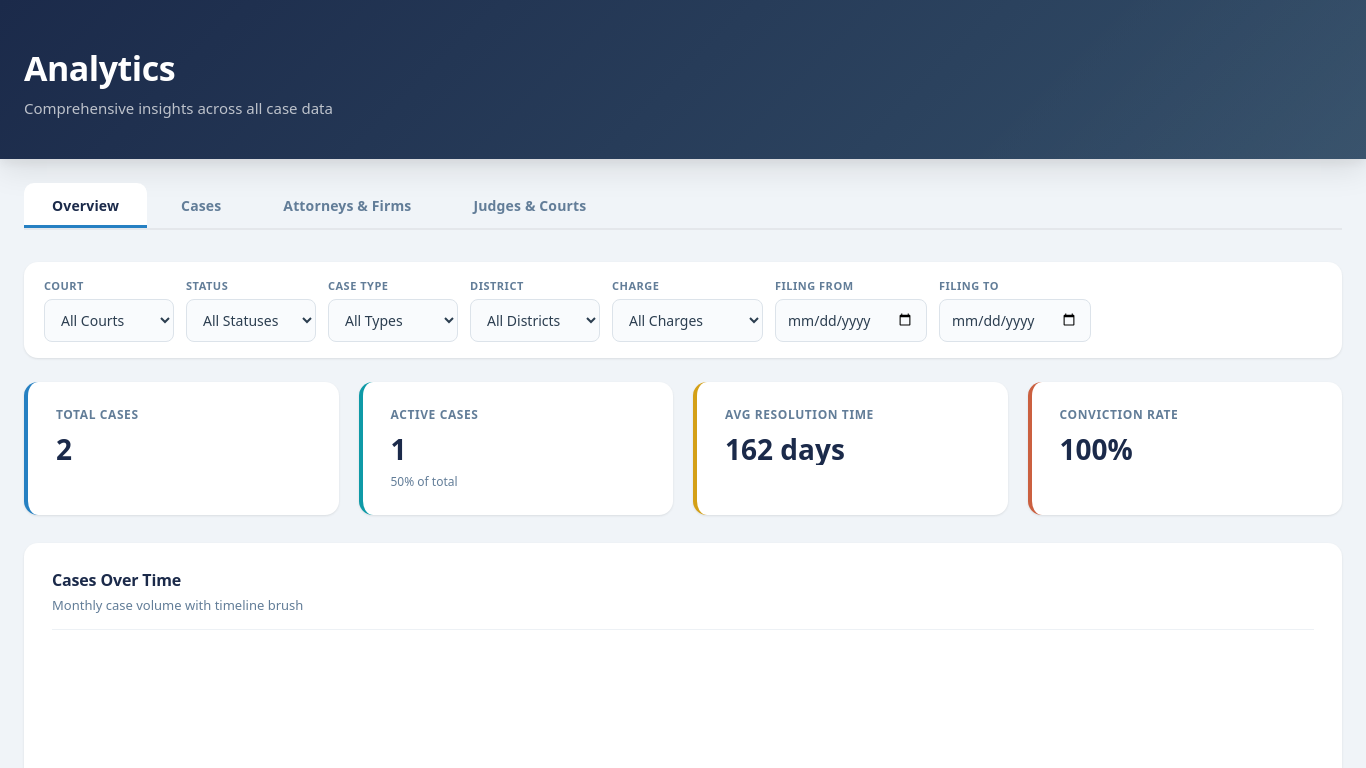
Test: Analytics › switches to cases tab
This screenshot has width=1366, height=768.
Click the button "Cases" at [201, 206], box [153,183,249,228]
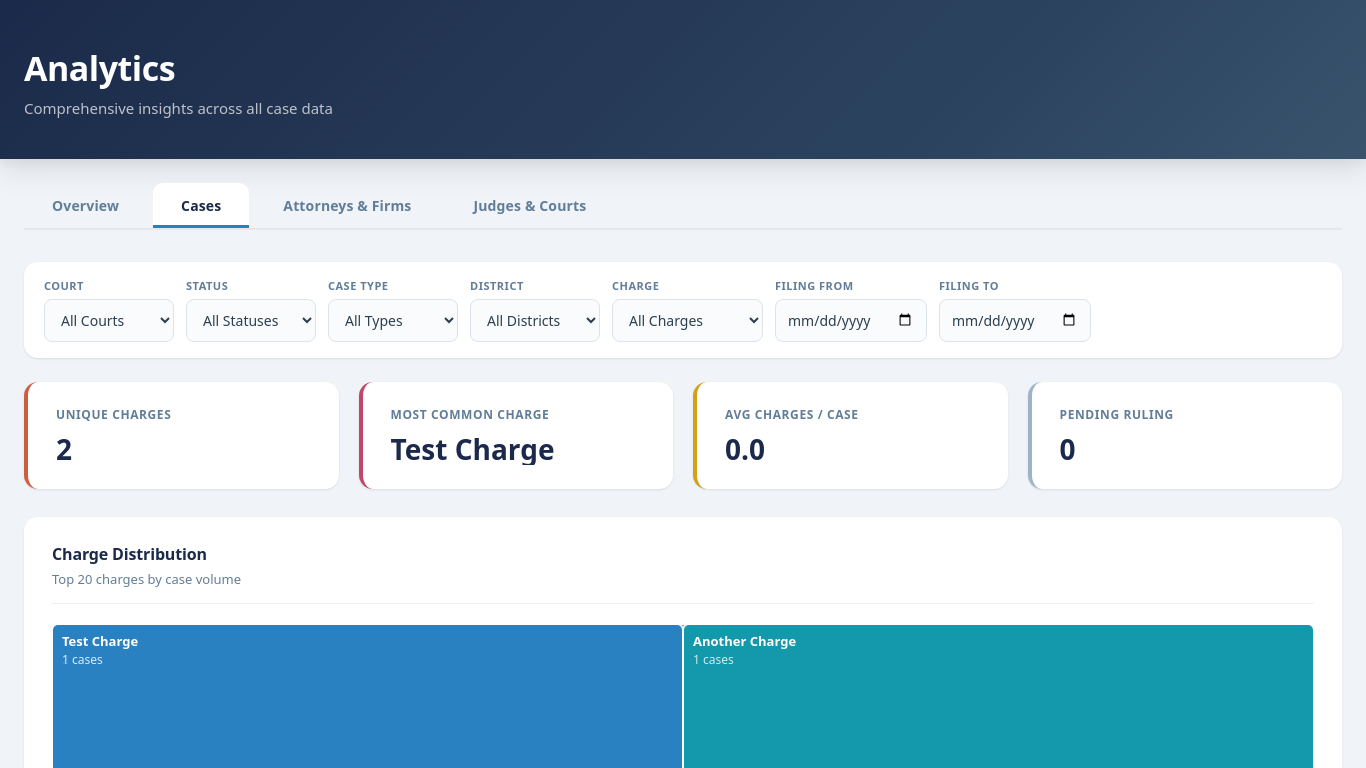
expect the text "Unique Charges" is shown: met, box [56,406,171,423]
